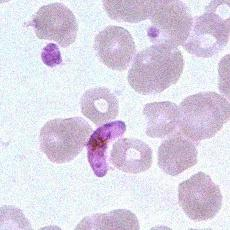Infected: (88, 121, 128, 175)
Uninfected: (128, 44, 183, 93), (40, 115, 91, 164), (179, 91, 230, 140), (179, 172, 222, 221), (33, 4, 79, 47), (93, 25, 135, 71), (187, 15, 228, 56), (159, 136, 198, 177), (111, 137, 154, 173), (140, 101, 179, 139), (80, 87, 119, 123)
